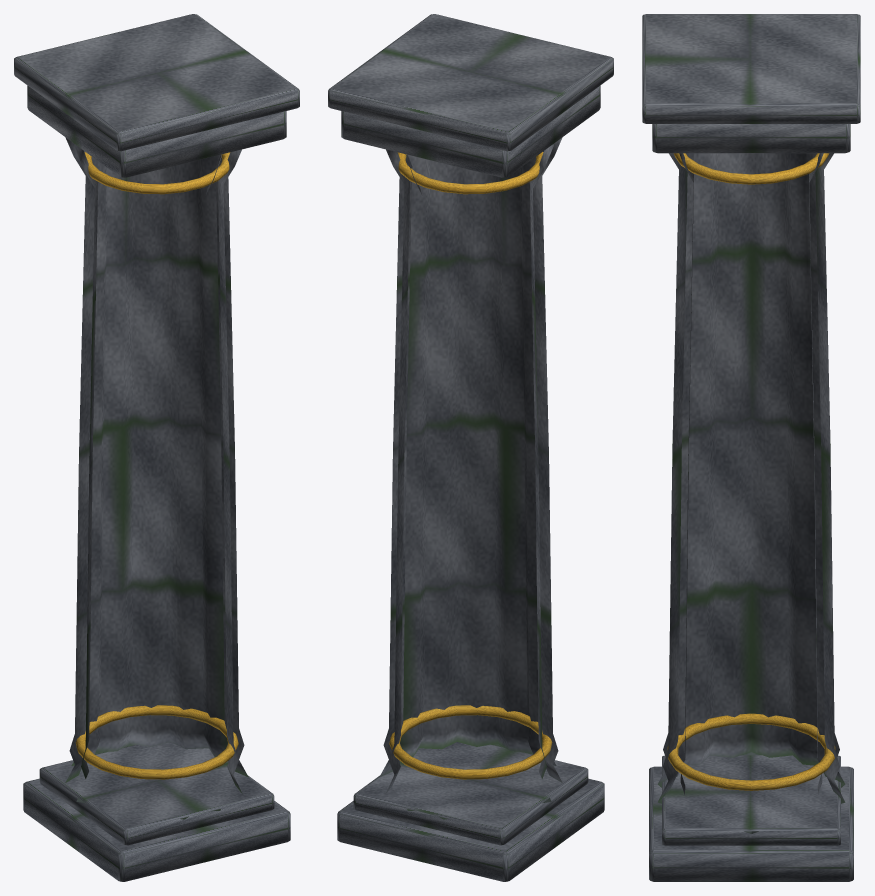
File: pillar.glb
3 renders of one model, left to right at view 1: azimuth 30°, elevation 25°; view 2: azimuth 150°, elevation 25°; view 3: azimuth 270°, elevation 25°, orthographic. The views are drawn at different scales.
Visible parts, largest first — view 1: DwarvenPillar; view 2: DwarvenPillar; view 3: DwarvenPillar.
Part boxes in pixels (x1,y1,x2,y2): DwarvenPillar: (14,14,299,881); DwarvenPillar: (328,14,613,881); DwarvenPillar: (642,14,860,881).
Size of the model in its own units: 33.59 by 133 by 33.59.
Materials: 2 (2 with a texture image).
